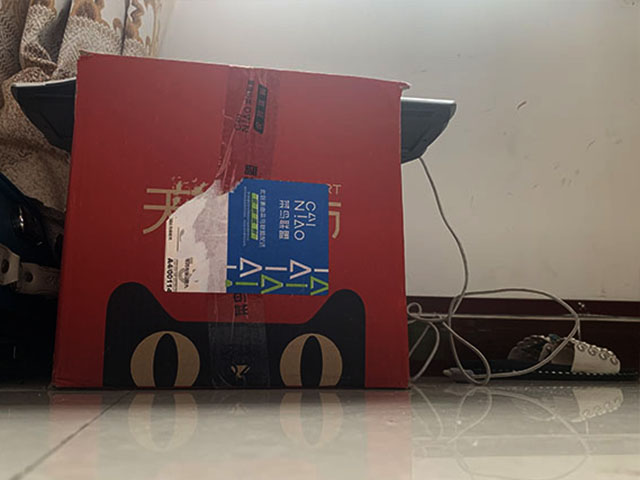slippers: (497, 333, 635, 383)
wire: (406, 162, 580, 386)
